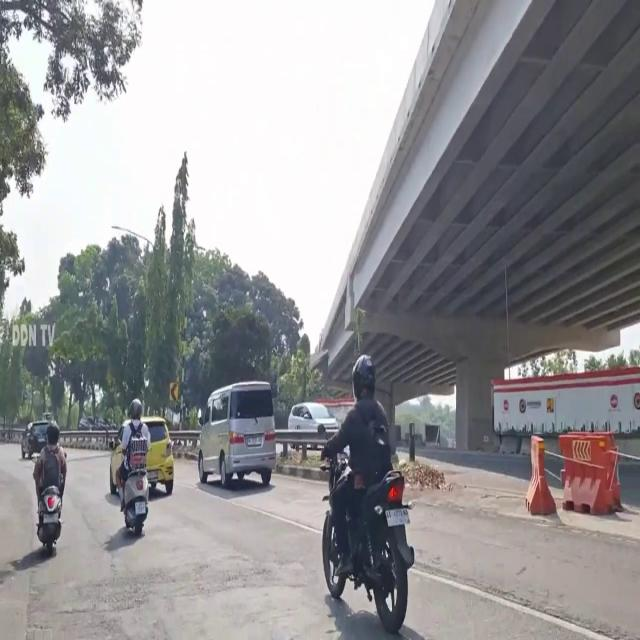WithHelmet: (319, 355, 393, 578), (115, 399, 151, 516), (33, 421, 67, 525)
